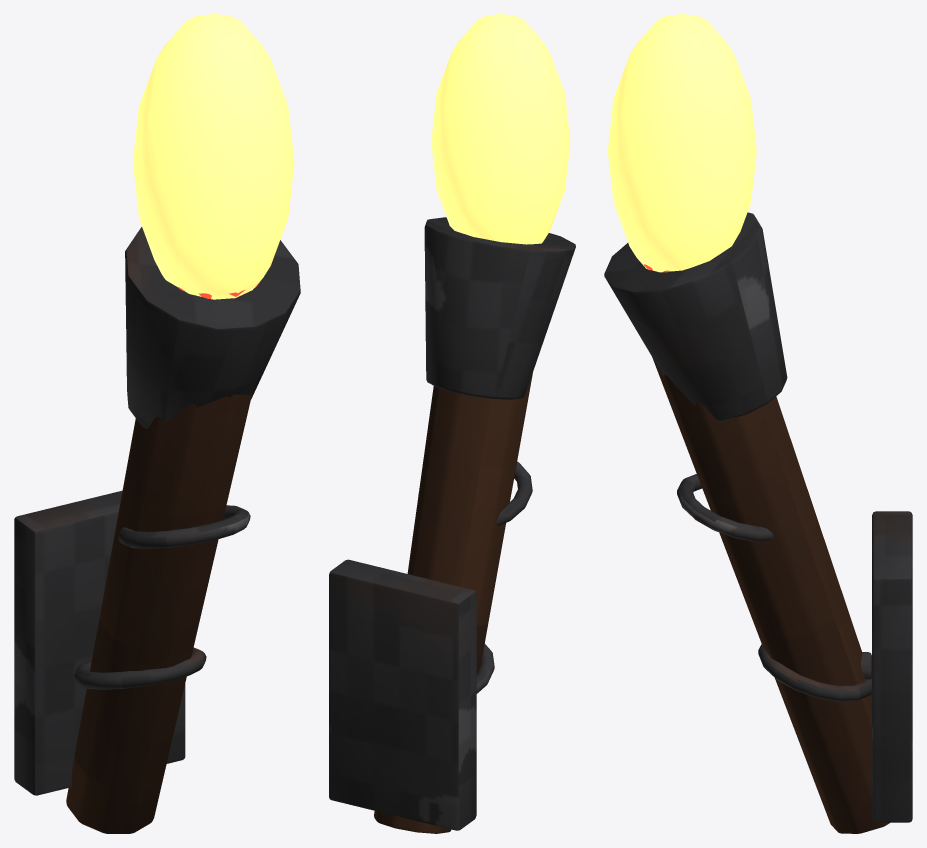
File: prop_torch.glb
The picture shows the model from 3 angles, left to right: view 1: azimuth 30°, elevation 25°; view 2: azimuth 150°, elevation 25°; view 3: azimuth 270°, elevation 25°; orthographic projection. The views are drawn at different scales.
Visible parts, largest first — view 1: prop_torch; view 2: prop_torch; view 3: prop_torch.
Part boxes in pixels (<box>): prop_torch: <box>14,14,300,833</box>; prop_torch: <box>329,14,575,833</box>; prop_torch: <box>604,14,912,833</box>.
Bounding box in the file's own units: 0.12 × 0.6589 × 0.2275.
4 materials, 4 textured.
